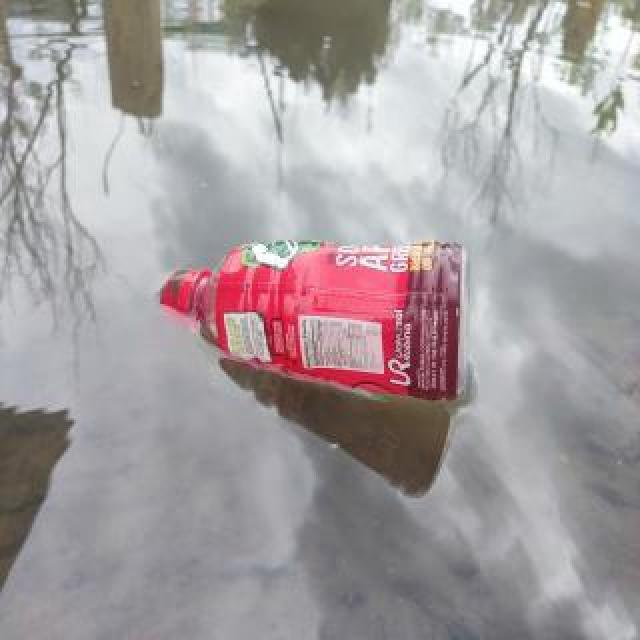bottle: (159, 227, 477, 413)
